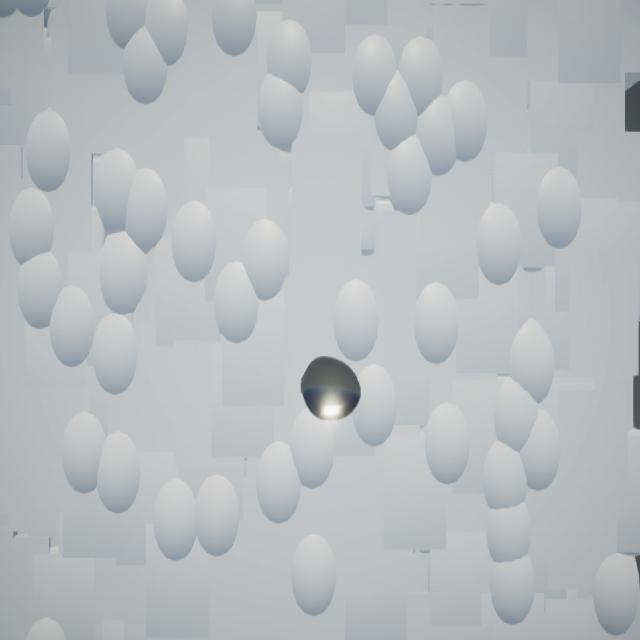top_spoon: (302, 358, 363, 423)
